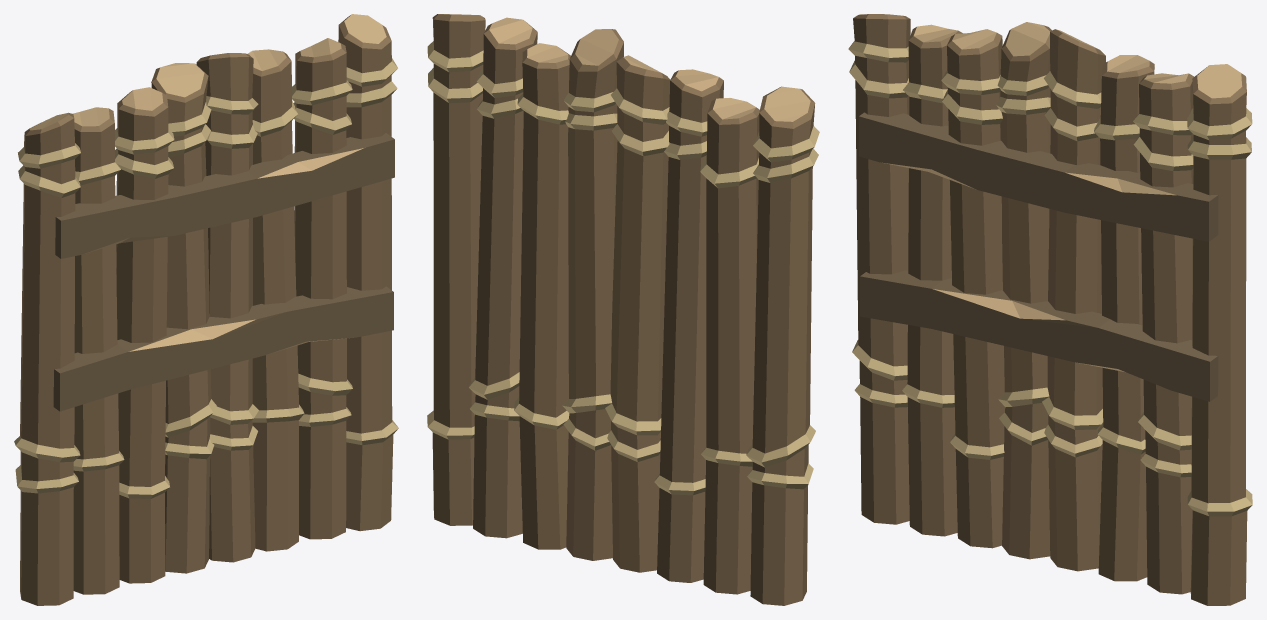
The model's file is rpgpp_ag_stockade_01h_4x6.fbx.
3 renders of one model, left to right at view 1: azimuth 30°, elevation 25°; view 2: azimuth 150°, elevation 25°; view 3: azimuth 330°, elevation 25°, orthographic. The views are drawn at different scales.
Parts seen in each view (by area): view 1: rpgpp_ag_stockade_01h_4x6; view 2: rpgpp_ag_stockade_01h_4x6; view 3: rpgpp_ag_stockade_01h_4x6.
Part boxes in pixels (<box>): rpgpp_ag_stockade_01h_4x6: <box>14,14,398,605</box>; rpgpp_ag_stockade_01h_4x6: <box>427,14,819,605</box>; rpgpp_ag_stockade_01h_4x6: <box>848,14,1252,605</box>.
Bounding box in the file's own units: 4.14 × 5.32 × 0.8463.
